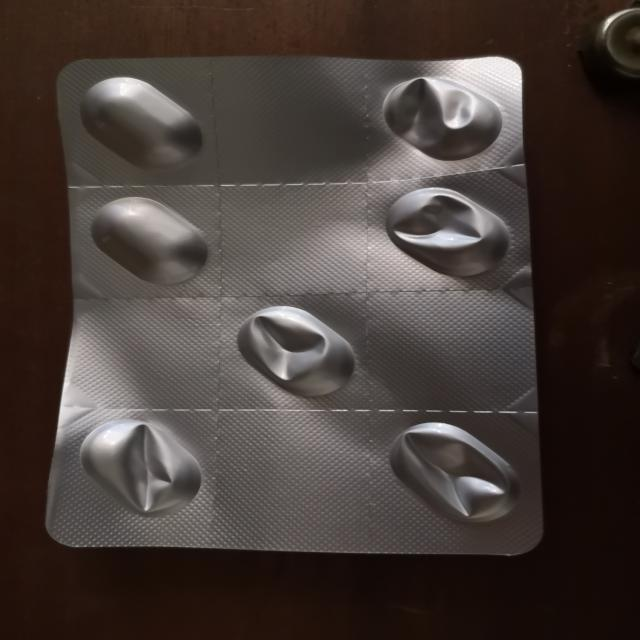Empty: (366, 415, 531, 532), (366, 180, 522, 280), (67, 413, 213, 519), (224, 302, 366, 404), (368, 63, 510, 161)
Pill: (68, 70, 224, 172), (78, 195, 232, 292)
